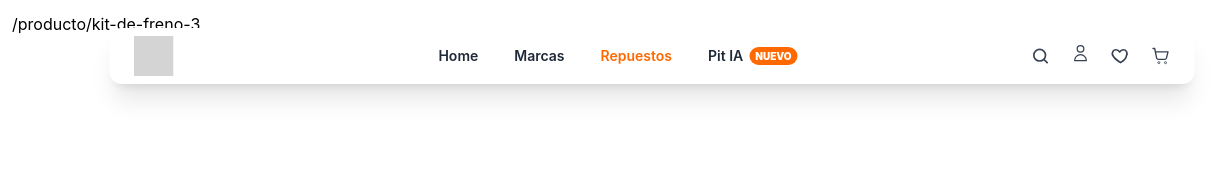
Test: Navbar › runs a global search with the Buscar button
Click the button named "Abrir búsqueda": (1040, 56) [1030,46,1050,66]
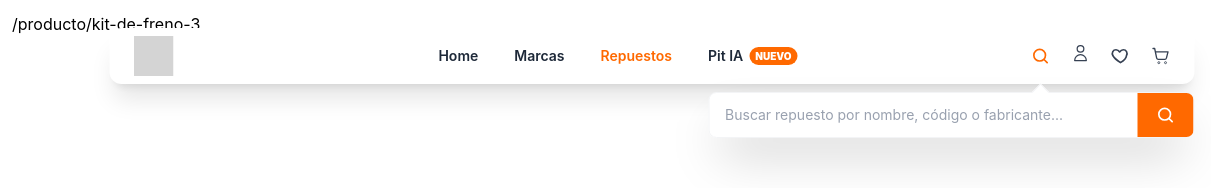
In the field named "Buscar repuestos": (923, 115) [709,93,1138,137], type "filtro aceite"
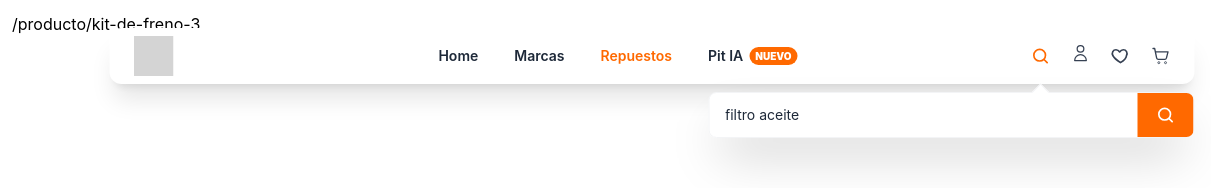
Click the button named "Buscar": (1166, 115) [1138,93,1194,137]
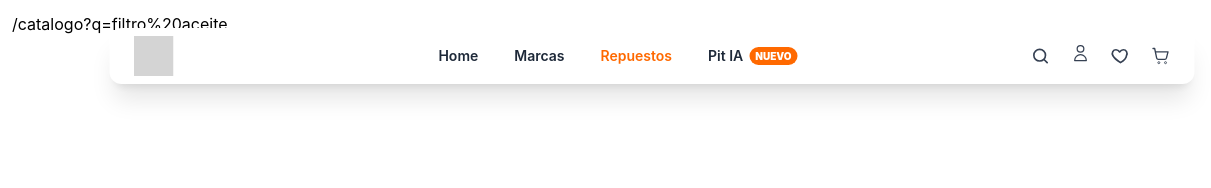
Expected: the text with test id "ruta-actual" reads "/catalogo?q=filtro%20aceite", [12,14,228,34]
